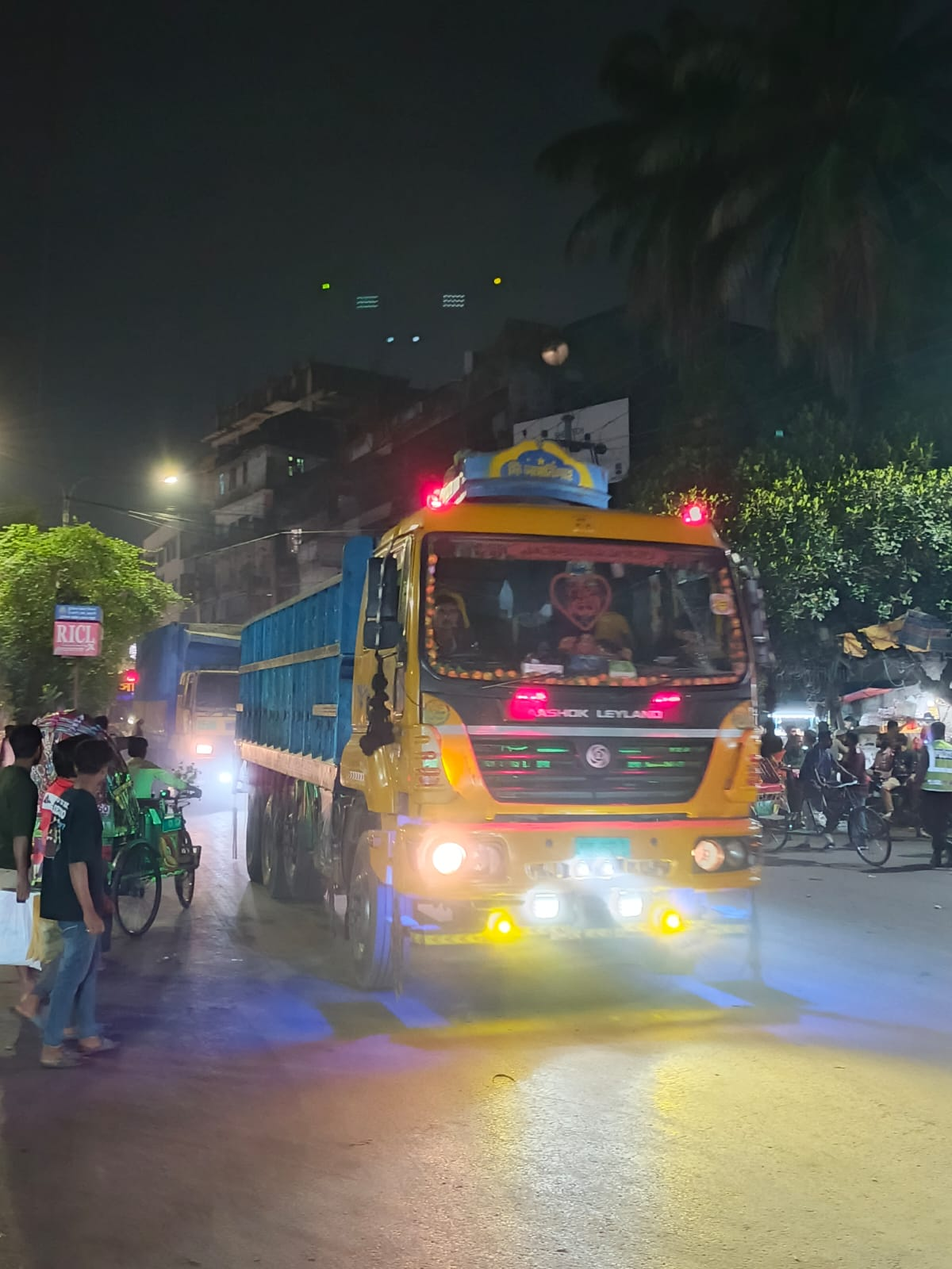Truck: (210, 426, 788, 996)
